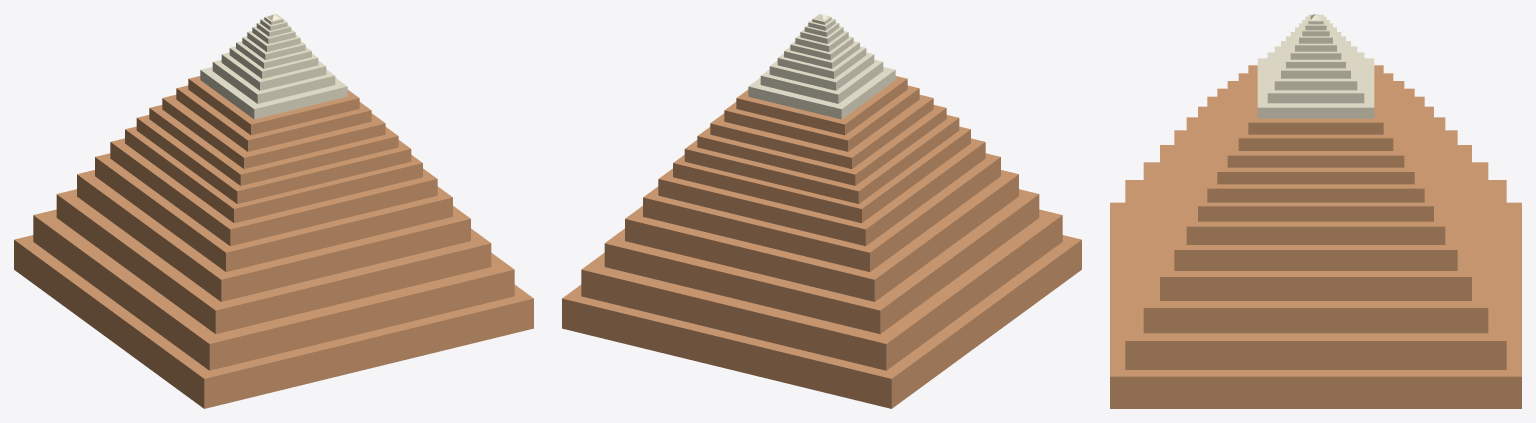
3 renders of one model, left to right at view 1: azimuth 30°, elevation 25°; view 2: azimuth 150°, elevation 25°; view 3: azimuth 270°, elevation 25°, orthographic. The views are drawn at different scales.
Parts seen in each view (by area): view 1: Cube.563; view 2: Cube.563; view 3: Cube.563.
Part boxes in pixels (left/top/right/bottom): Cube.563: left=14, top=14, right=533, bottom=408; Cube.563: left=562, top=14, right=1081, bottom=408; Cube.563: left=1110, top=14, right=1521, bottom=408.
Size of the model in its own units: 59.81 by 49.32 by 59.81.
Materials: 1 (1 with a texture image).
